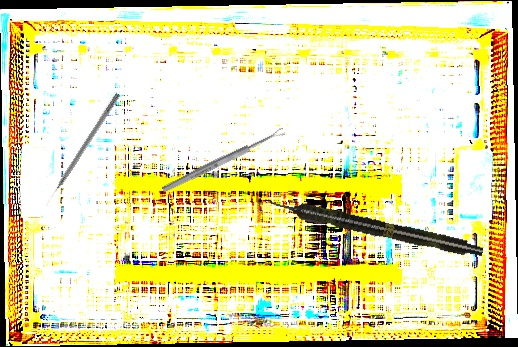Handpiece: (266, 192, 485, 262)
Pusher: (42, 91, 121, 208)
Surgical Spoon: (160, 126, 287, 195)
